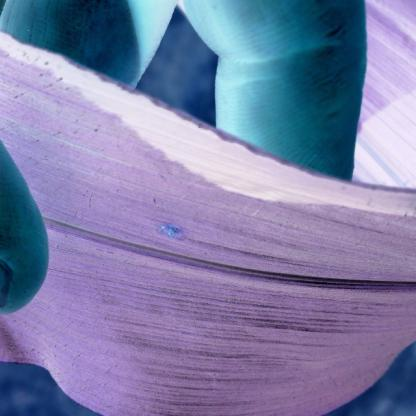corn rust leaf: (193, 3, 367, 368)
